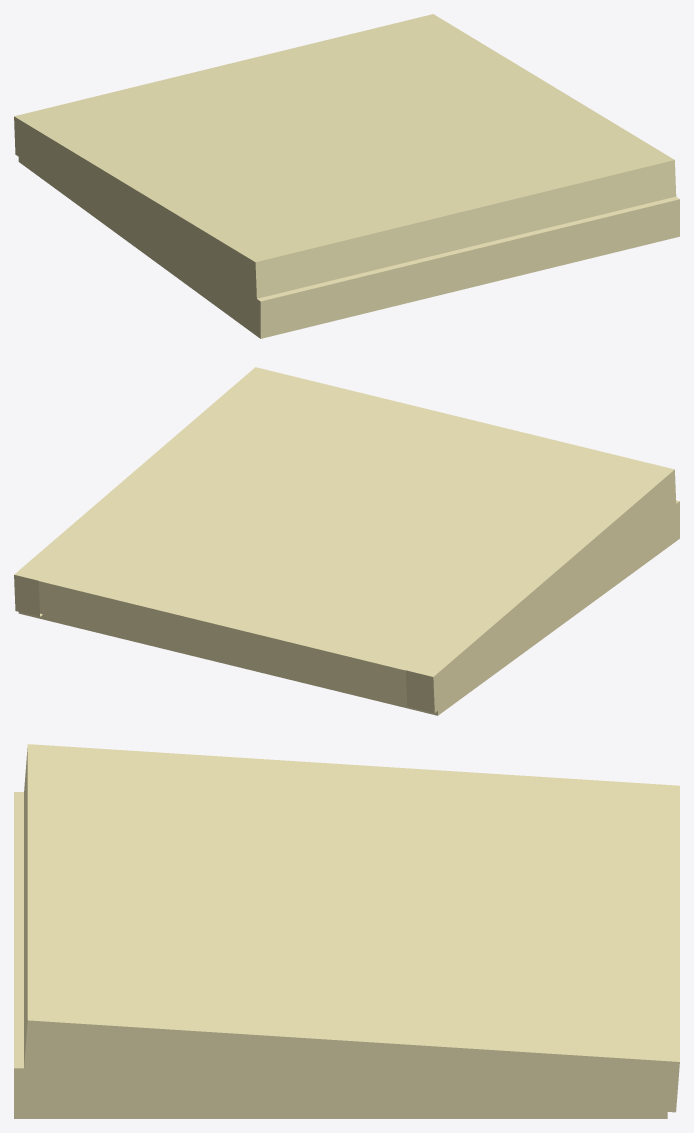
File: cutie_cu_animatie_de_inchidere_fara_oase.fbx
3 renders of one model, top to bottom at view 1: azimuth 30°, elevation 25°; view 2: azimuth 150°, elevation 25°; view 3: azimuth 270°, elevation 25°, orthographic. The views are drawn at different scales.
Parts seen in each view (by area): view 1: Cube.003, Cube; view 2: Cube.003, Cube; view 3: Cube.003, Cube.
Part boxes in pixels (x1,y1,x2,y2): Cube.003: (14,14,676,300); Cube: (18,125,679,338); Cube.003: (14,367,676,713); Cube: (18,500,679,715); Cube.003: (24,744,679,1112); Cube: (14,792,667,1118).
Bounding box in the file's own units: 787 × 131 × 802.
